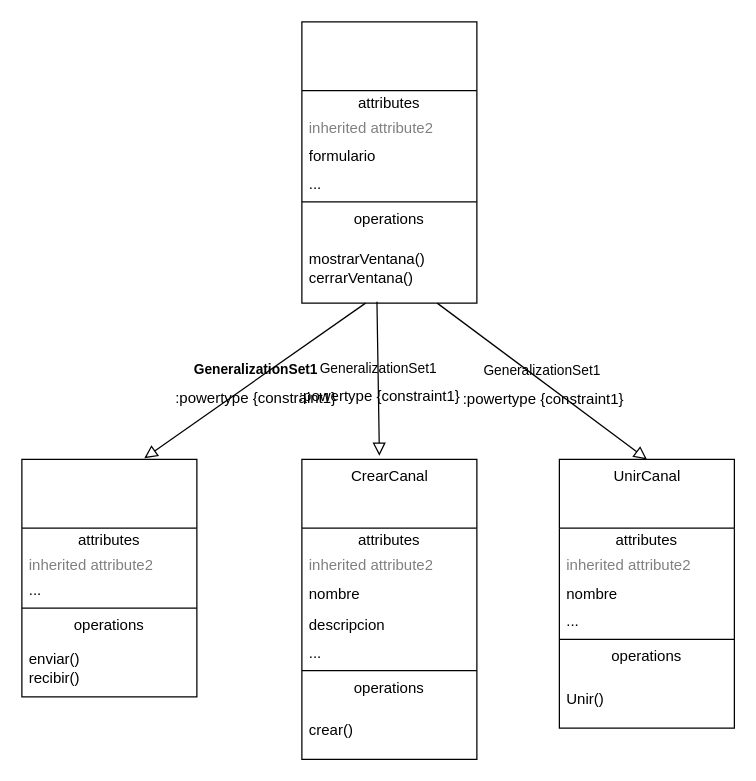
Image size: 756x781. Some labels were removed from this diagram. Each missing label, with the box of its shape:
Chat: (21, 458, 197, 697)
IntefazVentana: (301, 21, 477, 303)
